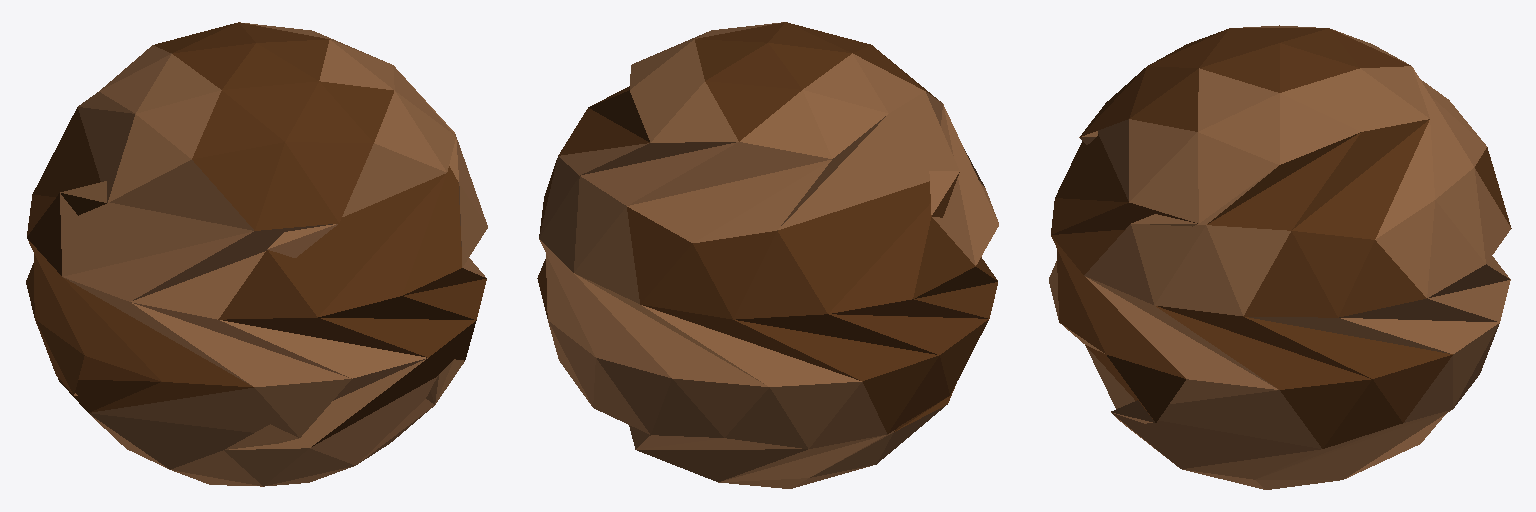
The model's file is Venus_1241.obj.
3 views of the same model, side by side, from view 1: azimuth 30°, elevation 25°; view 2: azimuth 150°, elevation 25°; view 3: azimuth 270°, elevation 25° (orthographic).
Parts seen in each view (by area): view 1: GeoSphere001; view 2: GeoSphere001; view 3: GeoSphere001.
Part boxes in pixels (x1,y1,x2,y2): GeoSphere001: (26, 22, 487, 486); GeoSphere001: (537, 22, 998, 488); GeoSphere001: (1049, 25, 1511, 489).
Size of the model in its own units: 59.57 by 60.43 by 59.5.